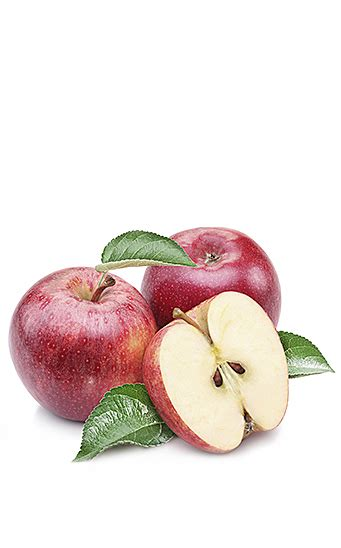apple: (5, 267, 158, 428), (137, 224, 284, 348)
